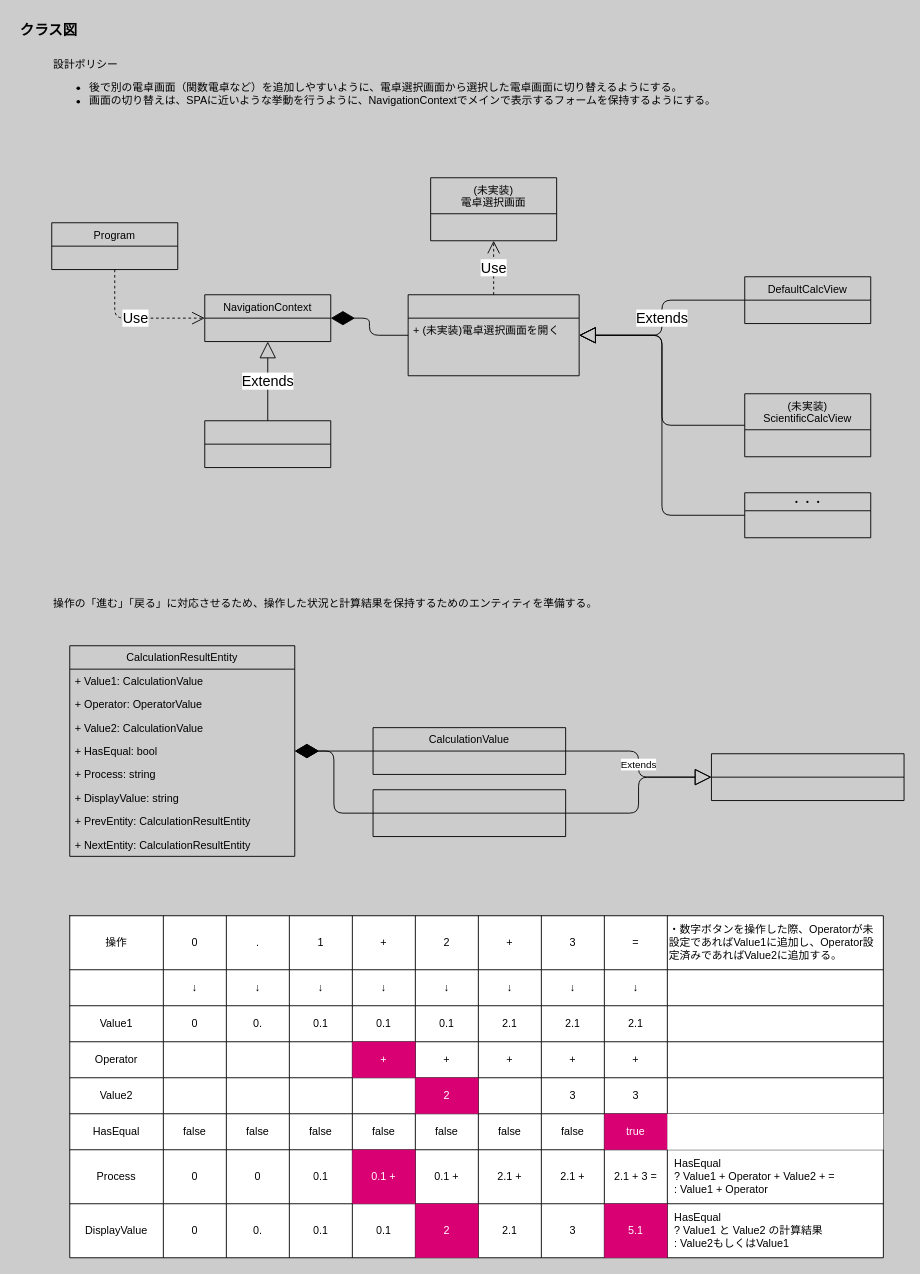
This 920x1274 diagram has some shape labels left out. Each missing label, with the box of its shape:
ApplicationContext: (204, 420, 331, 468)
BaseForm: (407, 294, 579, 376)
OperatorValue: (372, 789, 566, 837)
ValueObject: (711, 753, 904, 801)
